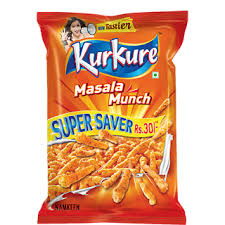kurkure: (64, 39, 163, 77)
plastic: (37, 12, 187, 225)
wrapper: (34, 9, 196, 225)
